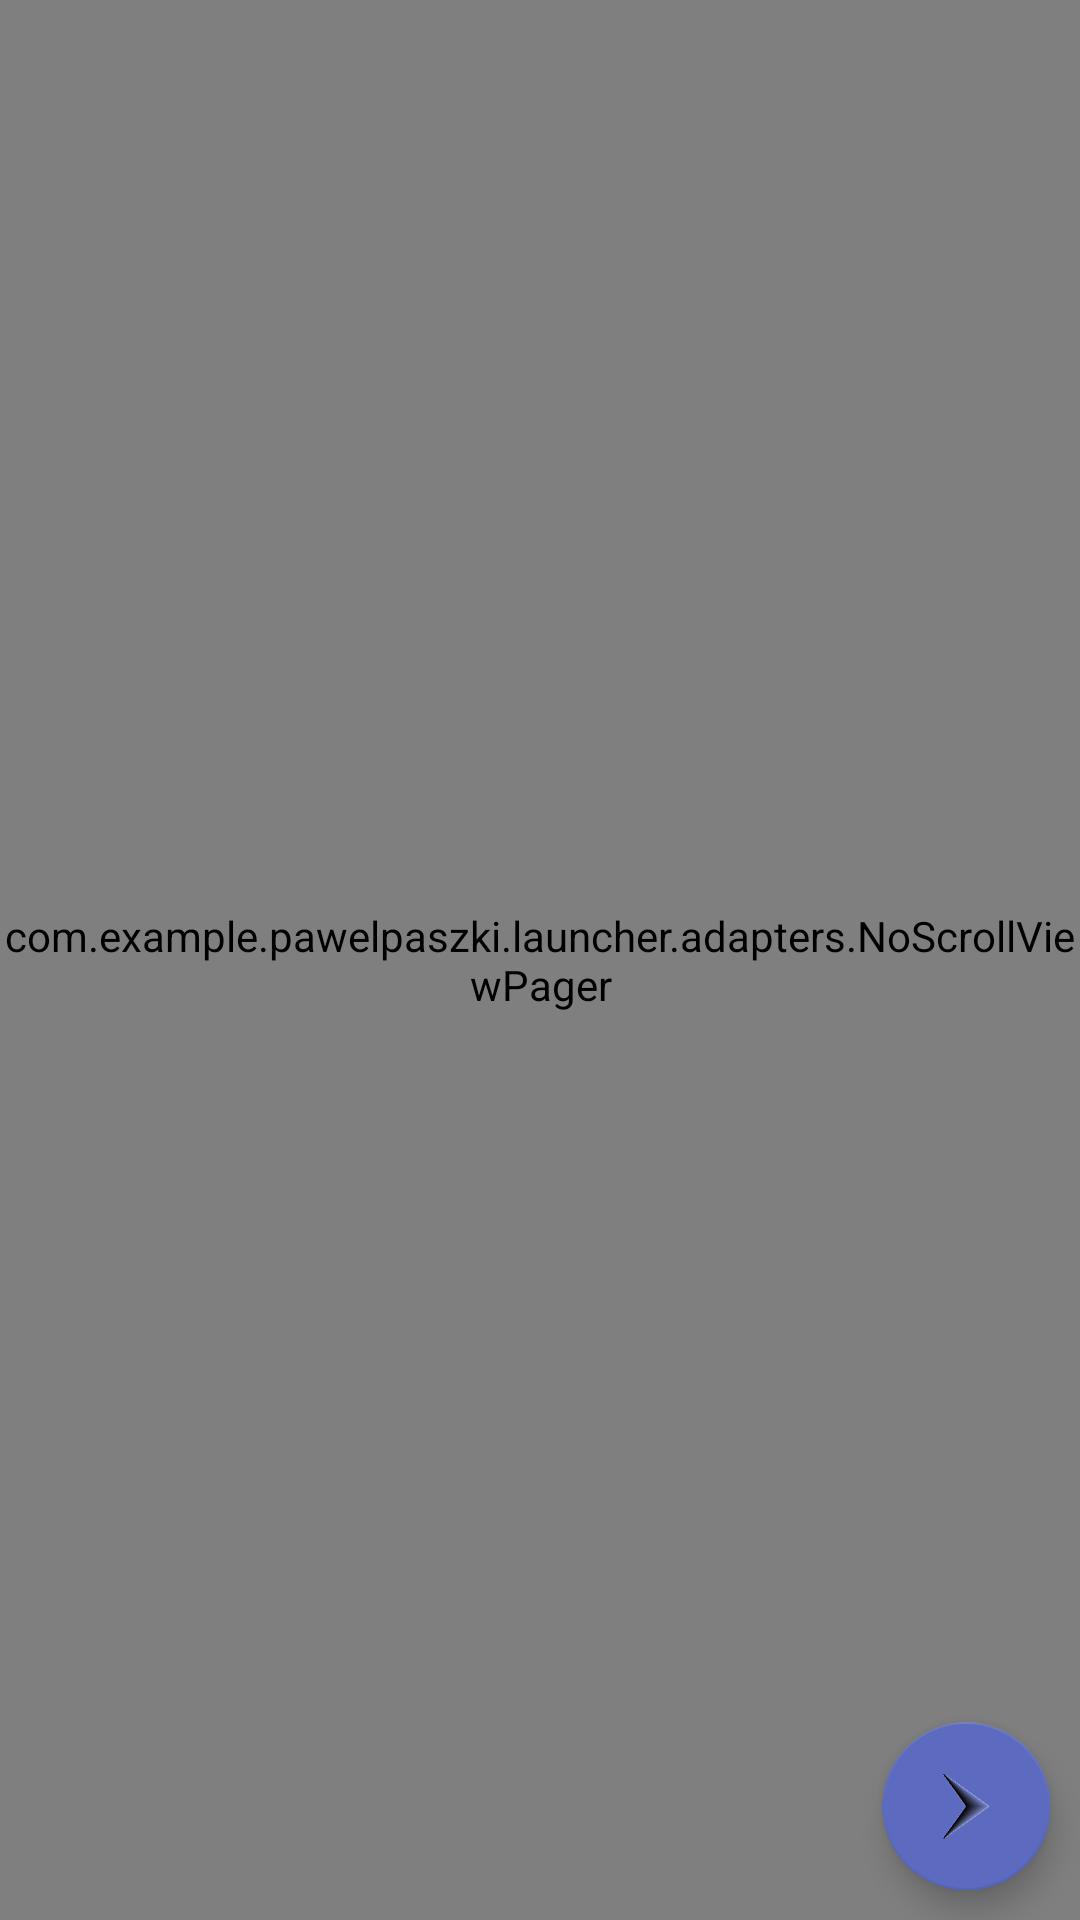

Icon bounding boxes for this 1080x1920 phone screenshot, format (x1, y1, x2, y2):
right arrow: (882, 1722, 1050, 1890)
